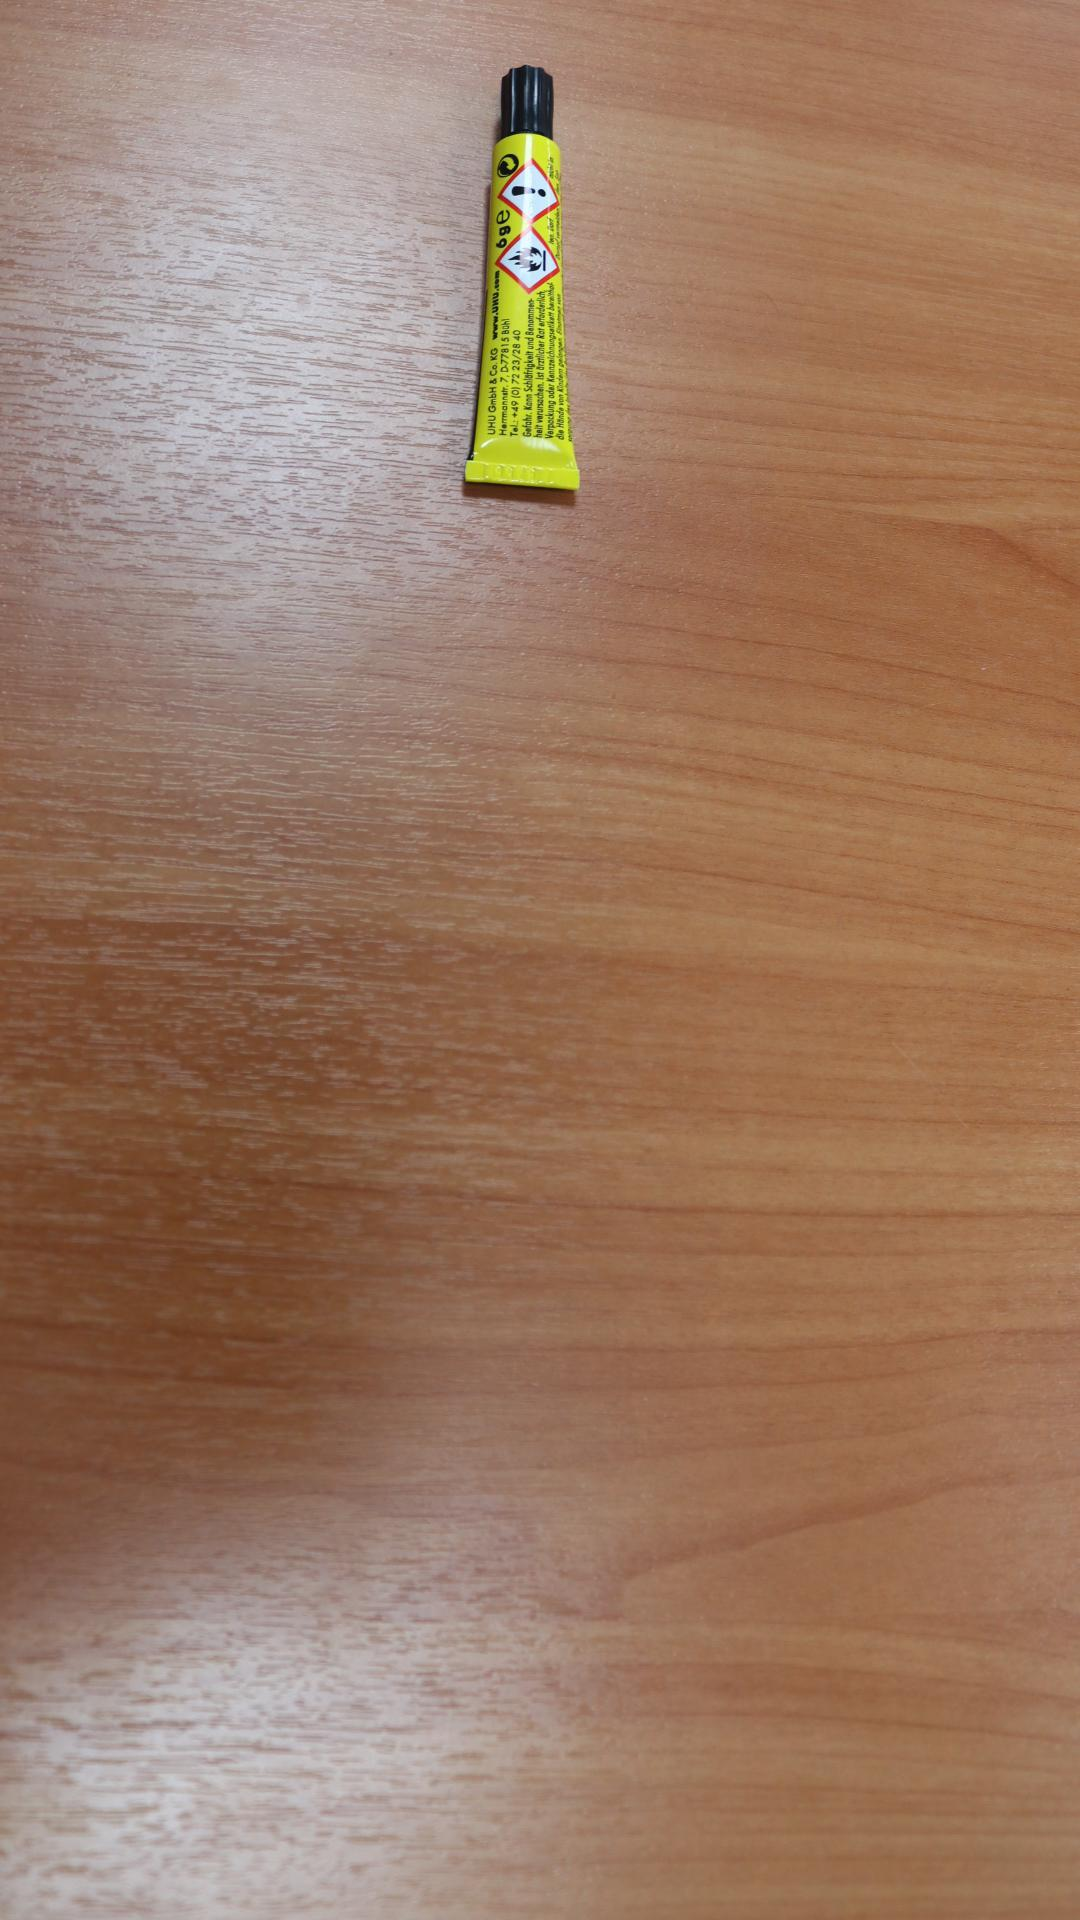Head: (523, 94, 532, 106)
Tail: (516, 469, 533, 483)
Tube: (464, 66, 583, 489)
